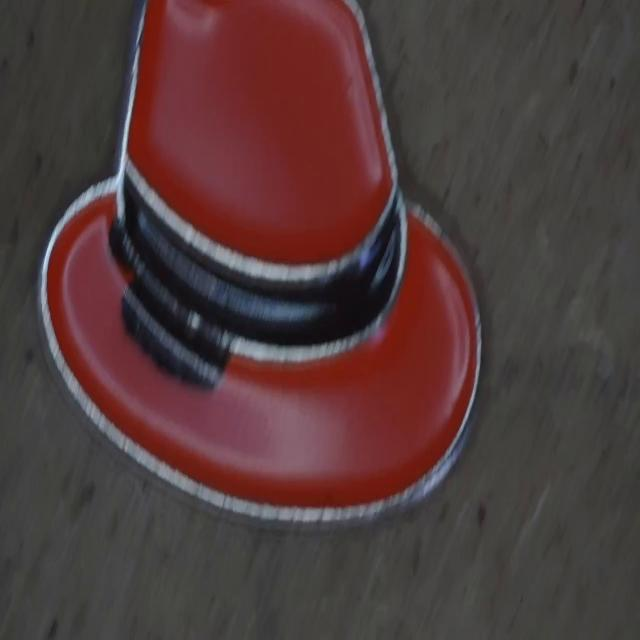Hatband: (124, 160, 405, 344)
Paint_Leak: (110, 220, 232, 386)
RedHatPin: (41, 2, 480, 519)
